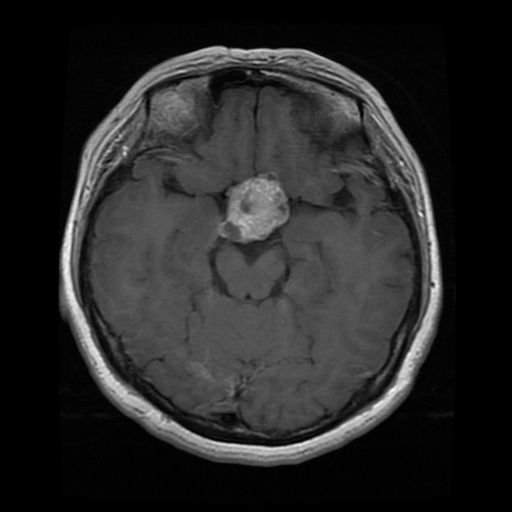pituitary: (227, 176, 289, 237)
